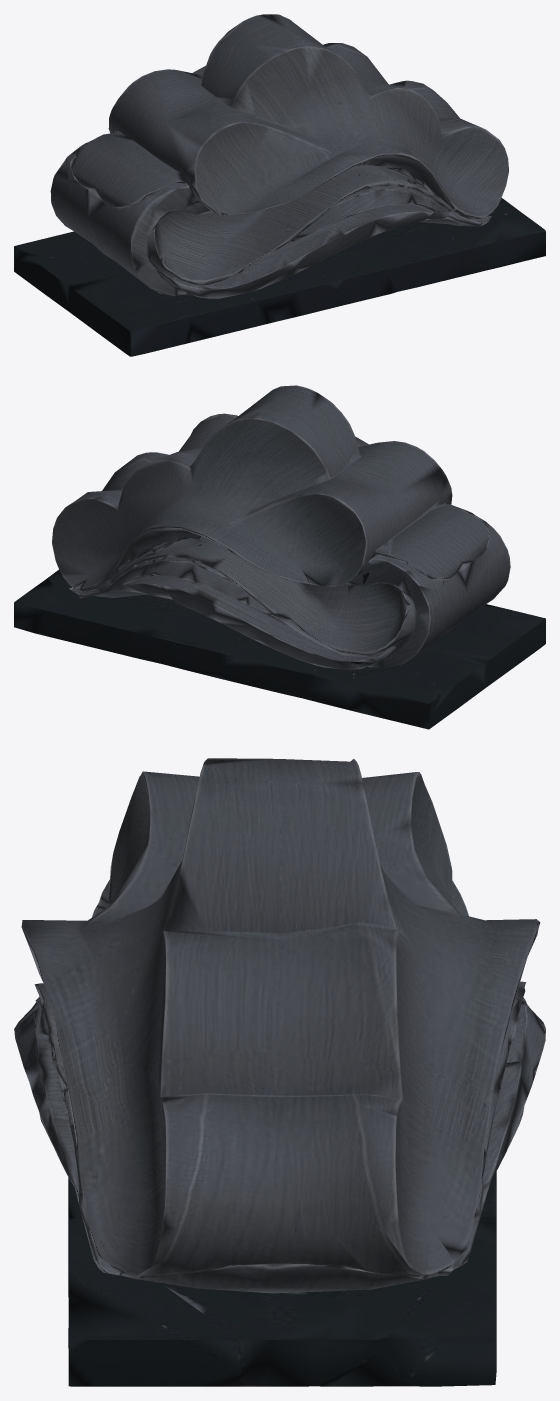
The model's file is co_cloud.glb.
3 views of the same model, one above another, from view 1: azimuth 30°, elevation 25°; view 2: azimuth 150°, elevation 25°; view 3: azimuth 270°, elevation 25° (orthographic). The views are drawn at different scales.
Size of the model in its own units: 1.9 by 1.02 by 1.15.
1 material, 1 textured.
